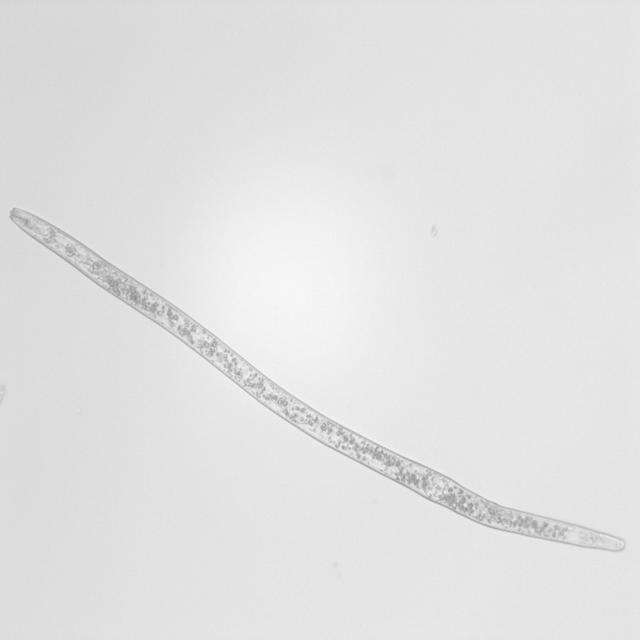Pratylenchus: (2, 204, 630, 557)
